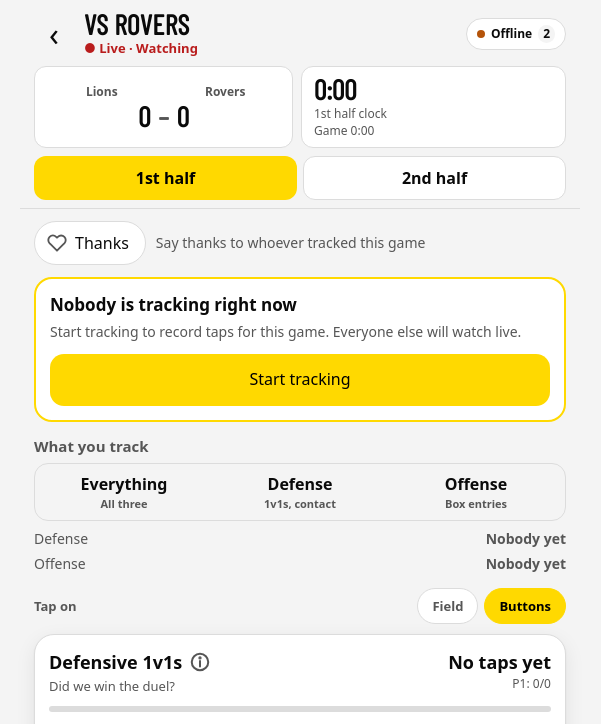
Test: one tracker per lane › offers Start tracking, with no confirmation, once the other parent hands the game back
Check: the heading "vs Rovers" is shown, box x1=84 y1=7 x2=190 y2=41
Check: the text "Nobody is tracking right now" is shown, box x1=50 y1=293 x2=297 y2=316
Click the button "Start tracking".
click(300, 380)  # box x1=50 y1=354 x2=550 y2=406
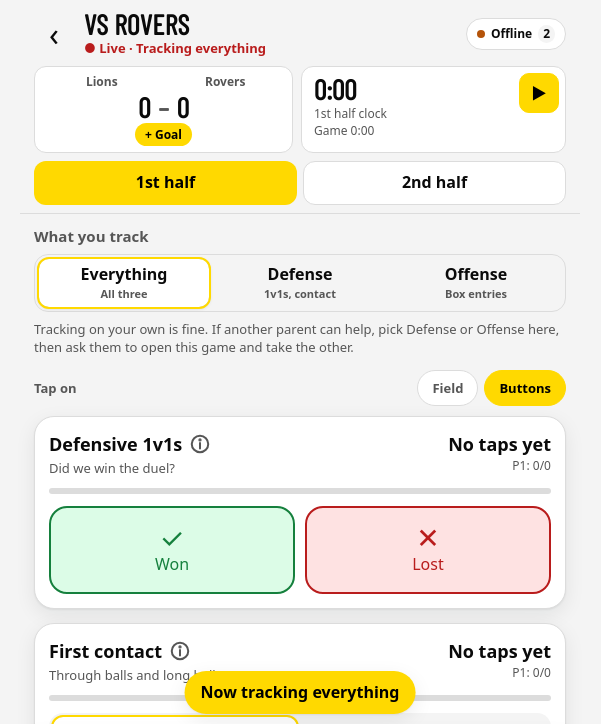
Check: the text "● Live · Tracking everything" is shown, box x1=84 y1=39 x2=266 y2=57
